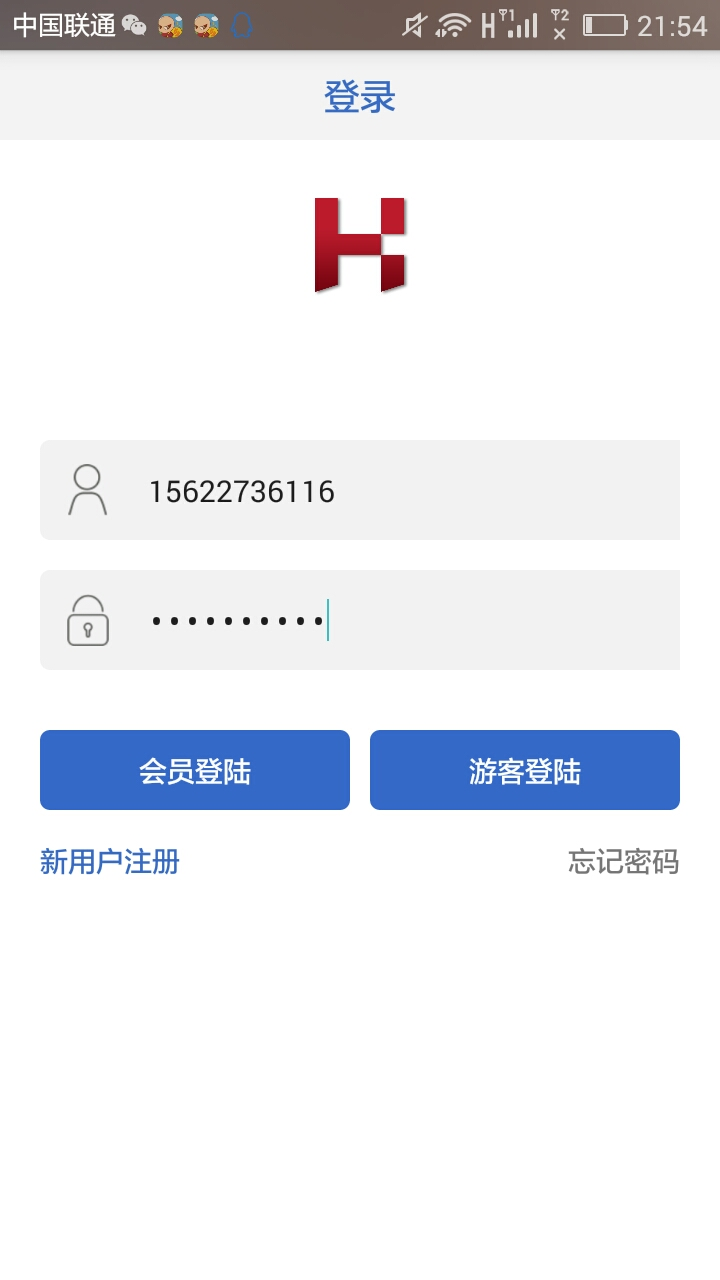button: (31, 723, 356, 815), (364, 726, 690, 817)
textview: (32, 440, 686, 552), (33, 568, 687, 677)
